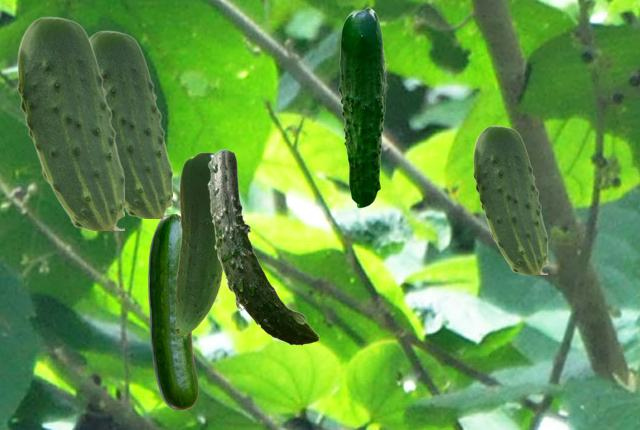cucumber: (17, 16, 123, 229), (207, 149, 318, 344), (90, 30, 171, 217), (473, 125, 546, 273), (338, 7, 387, 207), (148, 214, 197, 409), (175, 152, 223, 334)
